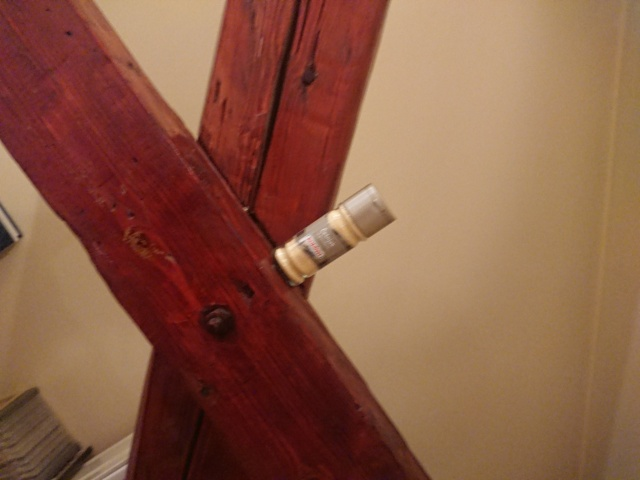Kotanyi Garlic Granules 70g: (271, 178, 399, 291)
